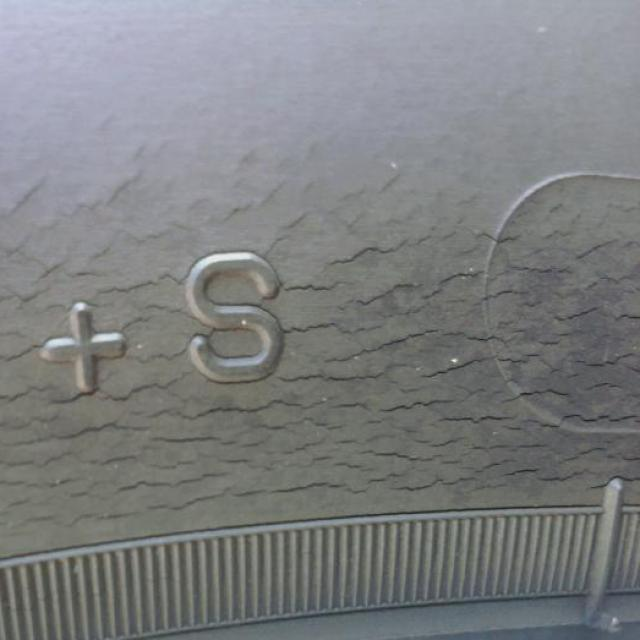Cracks: (0, 105, 639, 560)
